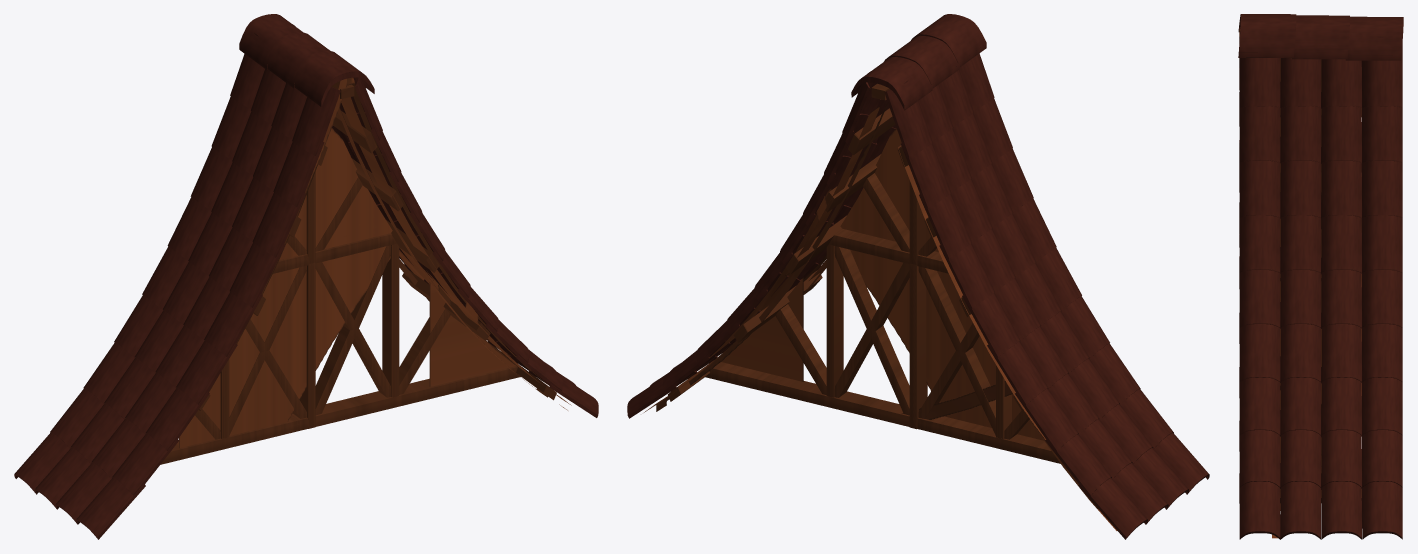
File: S_Roof_Frame_Wood_002.fbx
3 renders of one model, left to right at view 1: azimuth 30°, elevation 25°; view 2: azimuth 150°, elevation 25°; view 3: azimuth 270°, elevation 25°, orthographic.
Parts seen in each view (by area): view 1: s roof mesh for normals.040, S_Roof_Frame_Wood.002, Cube.029, Cube.036; view 2: s roof mesh for normals.040, Cube.029, S_Roof_Frame_Wood.002, Cube.036; view 3: s roof mesh for normals.040, S_Roof_Frame_Wood.002.
Boxes of the visible parts, bbox=[...] form: s roof mesh for normals.040: bbox=[14, 14, 598, 539]; S_Roof_Frame_Wood.002: bbox=[179, 77, 571, 448]; Cube.029: bbox=[160, 171, 520, 464]; Cube.036: bbox=[198, 84, 556, 410]; s roof mesh for normals.040: bbox=[627, 14, 1209, 539]; Cube.029: bbox=[705, 173, 1060, 463]; S_Roof_Frame_Wood.002: bbox=[644, 103, 1117, 530]; Cube.036: bbox=[667, 83, 1024, 412]; s roof mesh for normals.040: bbox=[1238, 14, 1403, 539]; S_Roof_Frame_Wood.002: bbox=[1272, 58, 1361, 538].
Bounding box in the file's own units: 765 × 585 × 216.
